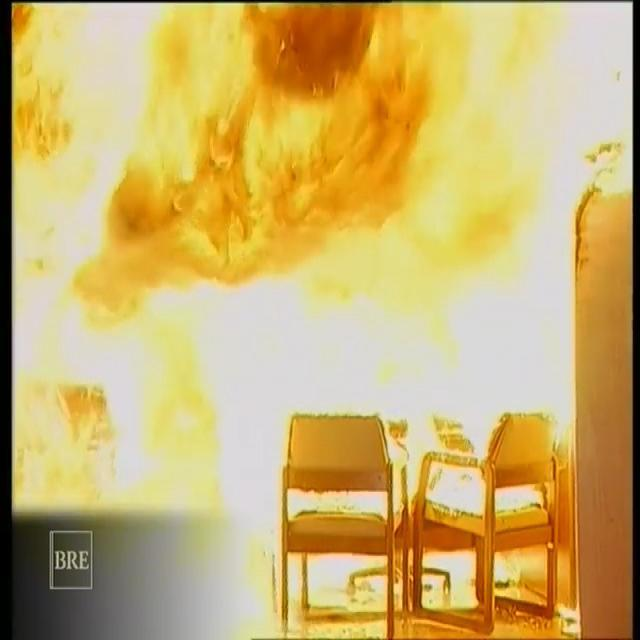Fire: (8, 0, 634, 525)
